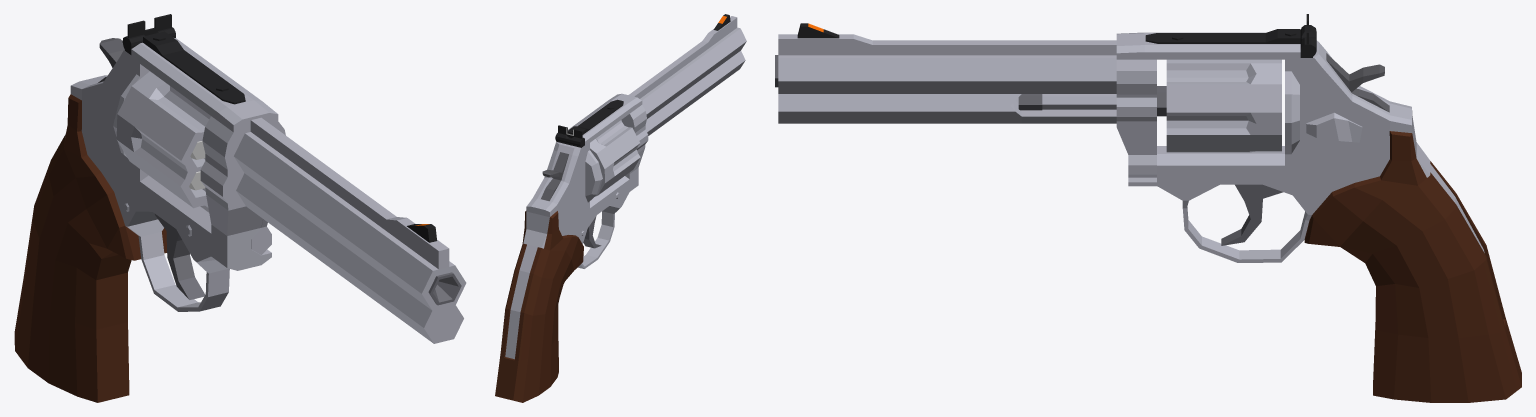
The model's file is revolver.fbx.
3 renders of one model, left to right at view 1: azimuth 30°, elevation 25°; view 2: azimuth 150°, elevation 25°; view 3: azimuth 270°, elevation 25°, orthographic. The views are drawn at different scales.
Visible parts, largest first — view 1: revolver; view 2: revolver; view 3: revolver.
Boxes of the visible parts, <box> form: revolver: <box>14,14,466,402</box>; revolver: <box>495,14,746,402</box>; revolver: <box>775,14,1521,402</box>.
Size of the model in its own units: 4.47 by 17.81 by 33.01.
